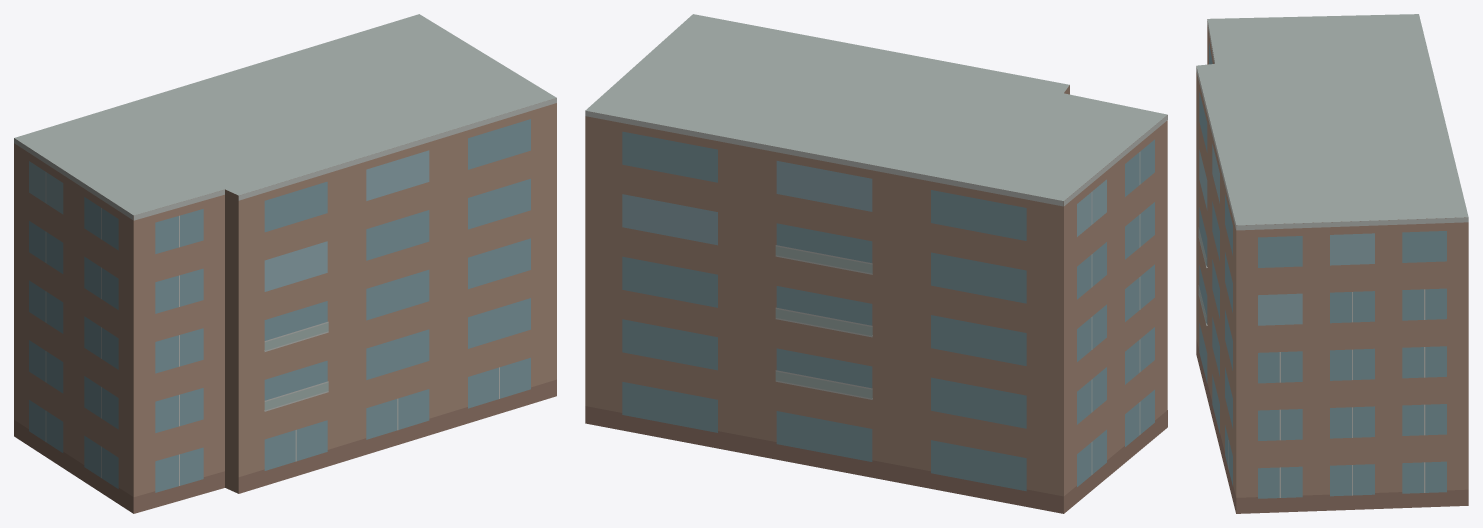
Rendered from survey-upis-32970483.glb.
3 views of the same model, side by side, from view 1: azimuth 30°, elevation 25°; view 2: azimuth 150°, elevation 25°; view 3: azimuth 270°, elevation 25° (orthographic). The views are drawn at different scales.
Visible parts, largest first — view 1: survey-upis-32970483.tmp; view 2: survey-upis-32970483.tmp; view 3: survey-upis-32970483.tmp.
Part boxes in pixels (bbox=[...]): survey-upis-32970483.tmp: bbox=[14, 14, 556, 513]; survey-upis-32970483.tmp: bbox=[585, 14, 1167, 513]; survey-upis-32970483.tmp: bbox=[1196, 14, 1468, 513].
Size of the model in its own units: 22.1 by 14.05 by 12.03.
